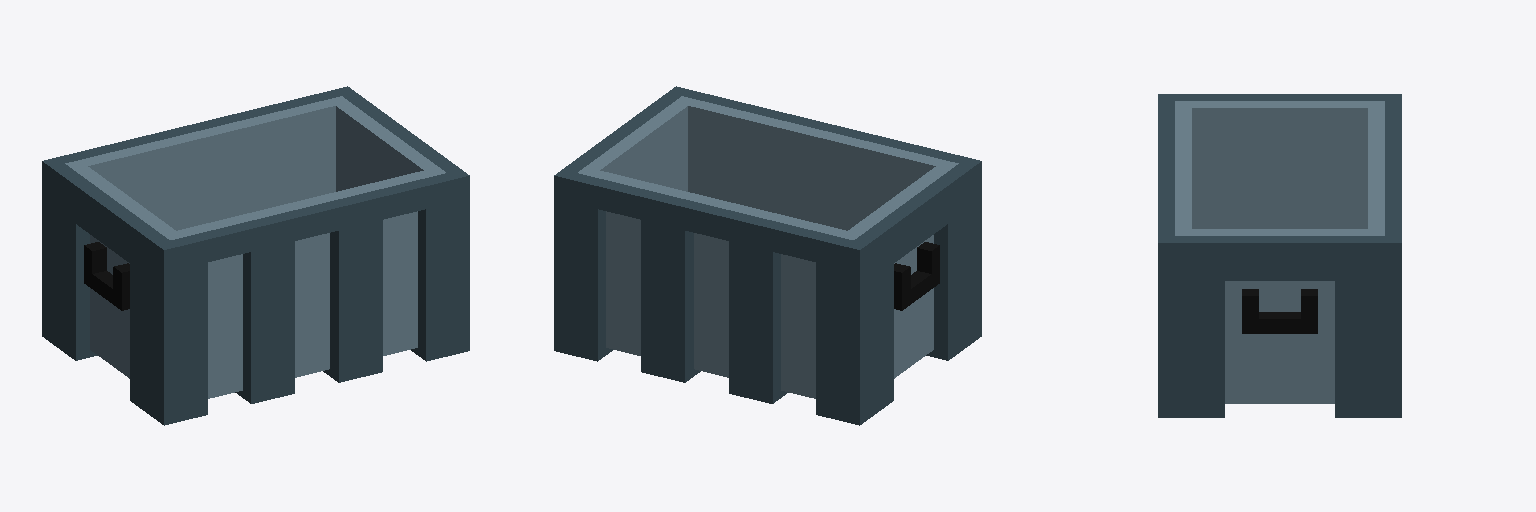
File: Ammo Crate.obj
3 renders of one model, left to right at view 1: azimuth 30°, elevation 25°; view 2: azimuth 150°, elevation 25°; view 3: azimuth 270°, elevation 25°, orthographic.
Parts seen in each view (by area): view 1: group[number redacted], group[number redacted], group[number redacted], group[number redacted], group[number redacted], group[number redacted], group[number redacted], group[number redacted], group[number redacted], group[number redacted], group[number redacted], group[number redacted] (+8 smaller); view 2: group[number redacted], group[number redacted], group[number redacted], group[number redacted], group[number redacted], group[number redacted], group[number redacted], group[number redacted], group[number redacted], group[number redacted], group[number redacted], group[number redacted] (+8 smaller); view 3: group[number redacted], group[number redacted], group[number redacted], group[number redacted], group[number redacted], group[number redacted], group[number redacted], group[number redacted], group[number redacted], group[number redacted], group[number redacted], group[number redacted] (+1 smaller).
Part boxes in pixels (left/top/right/bottom): group[number redacted]: left=162, top=167, right=445, bottom=398; group[number redacted]: left=65, top=96, right=348, bottom=228; group[number redacted]: left=156, top=234, right=207, bottom=417; group[number redacted]: left=330, top=191, right=382, bottom=374; group[number redacted]: left=418, top=169, right=469, bottom=353; group[number redacted]: left=243, top=212, right=294, bottom=396; group[number redacted]: left=90, top=106, right=335, bottom=230; group[number redacted]: left=50, top=164, right=89, bottom=352; group[number redacted]: left=336, top=102, right=437, bottom=191; group[number redacted]: left=130, top=222, right=169, bottom=411; group[number redacted]: left=74, top=166, right=175, bottom=378; group[number redacted]: left=76, top=182, right=143, bottom=262; group[number redacted]: left=675, top=96, right=958, bottom=230; group[number redacted]: left=578, top=167, right=861, bottom=383; group[number redacted]: left=816, top=234, right=867, bottom=417; group[number redacted]: left=641, top=191, right=693, bottom=374; group[number redacted]: left=554, top=169, right=605, bottom=353; group[number redacted]: left=729, top=212, right=780, bottom=396; group[number redacted]: left=934, top=164, right=973, bottom=352; group[number redacted]: left=586, top=102, right=687, bottom=191; group[number redacted]: left=854, top=222, right=893, bottom=411; group[number redacted]: left=848, top=166, right=949, bottom=378; group[number redacted]: left=606, top=212, right=815, bottom=398; group[number redacted]: left=880, top=182, right=947, bottom=262; group[number redacted]: left=1192, top=101, right=1367, bottom=228; group[number redacted]: left=1192, top=229, right=1367, bottom=403; group[number redacted]: left=1175, top=236, right=1224, bottom=410; group[number redacted]: left=1335, top=236, right=1384, bottom=410; group[number redacted]: left=1225, top=236, right=1334, bottom=280; group[number redacted]: left=1385, top=222, right=1401, bottom=410; group[number redacted]: left=1158, top=222, right=1174, bottom=410; group[number redacted]: left=1368, top=101, right=1384, bottom=235; group[number redacted]: left=1175, top=101, right=1191, bottom=235; group[number redacted]: left=1259, top=312, right=1300, bottom=333; group[number redacted]: left=1225, top=94, right=1334, bottom=100; group[number redacted]: left=1242, top=289, right=1258, bottom=333.
Bounding box in the file's own units: 0.42 × 0.23 × 0.29.